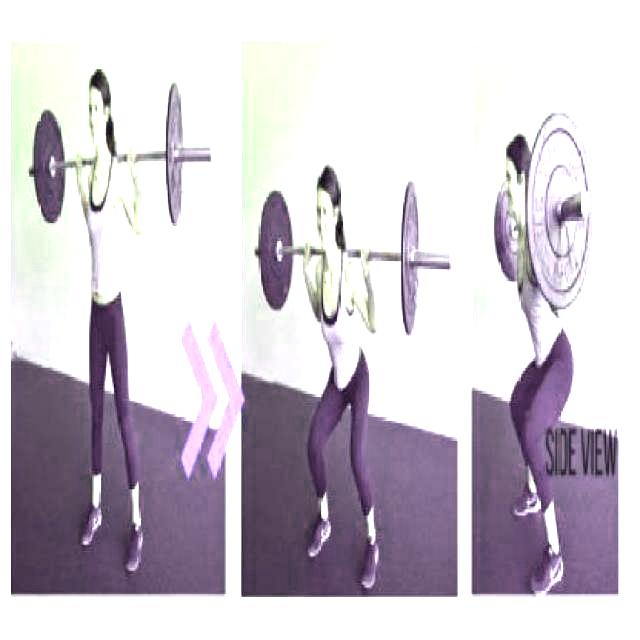barbell: (520, 103, 605, 312)
